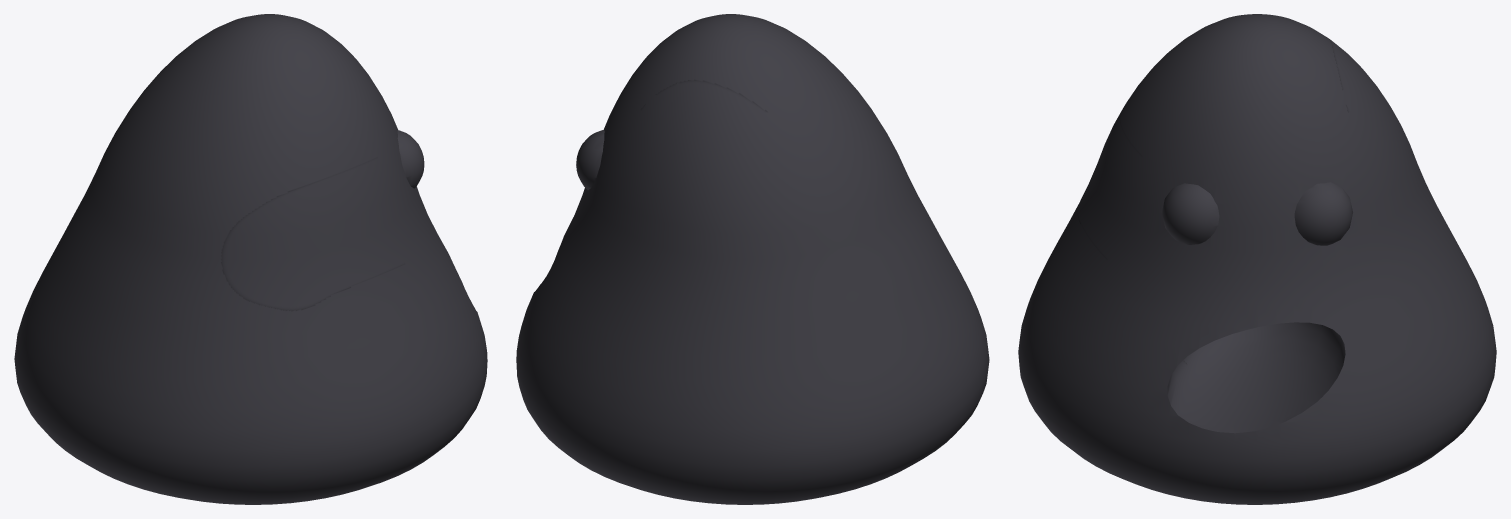
Rendered from slime.obj.
3 renders of one model, left to right at view 1: azimuth 30°, elevation 25°; view 2: azimuth 150°, elevation 25°; view 3: azimuth 270°, elevation 25°, orthographic.
Parts seen in each view (by area): view 1: 球; view 2: 球; view 3: 球.
Boxes of the visible parts, x1,y1,x2,y2 form: 球: (14, 14, 487, 504); 球: (516, 14, 989, 504); 球: (1018, 14, 1496, 504).
Bounding box in the file's own units: 2.74 × 2.71 × 2.71.
1 material, 1 textured.
